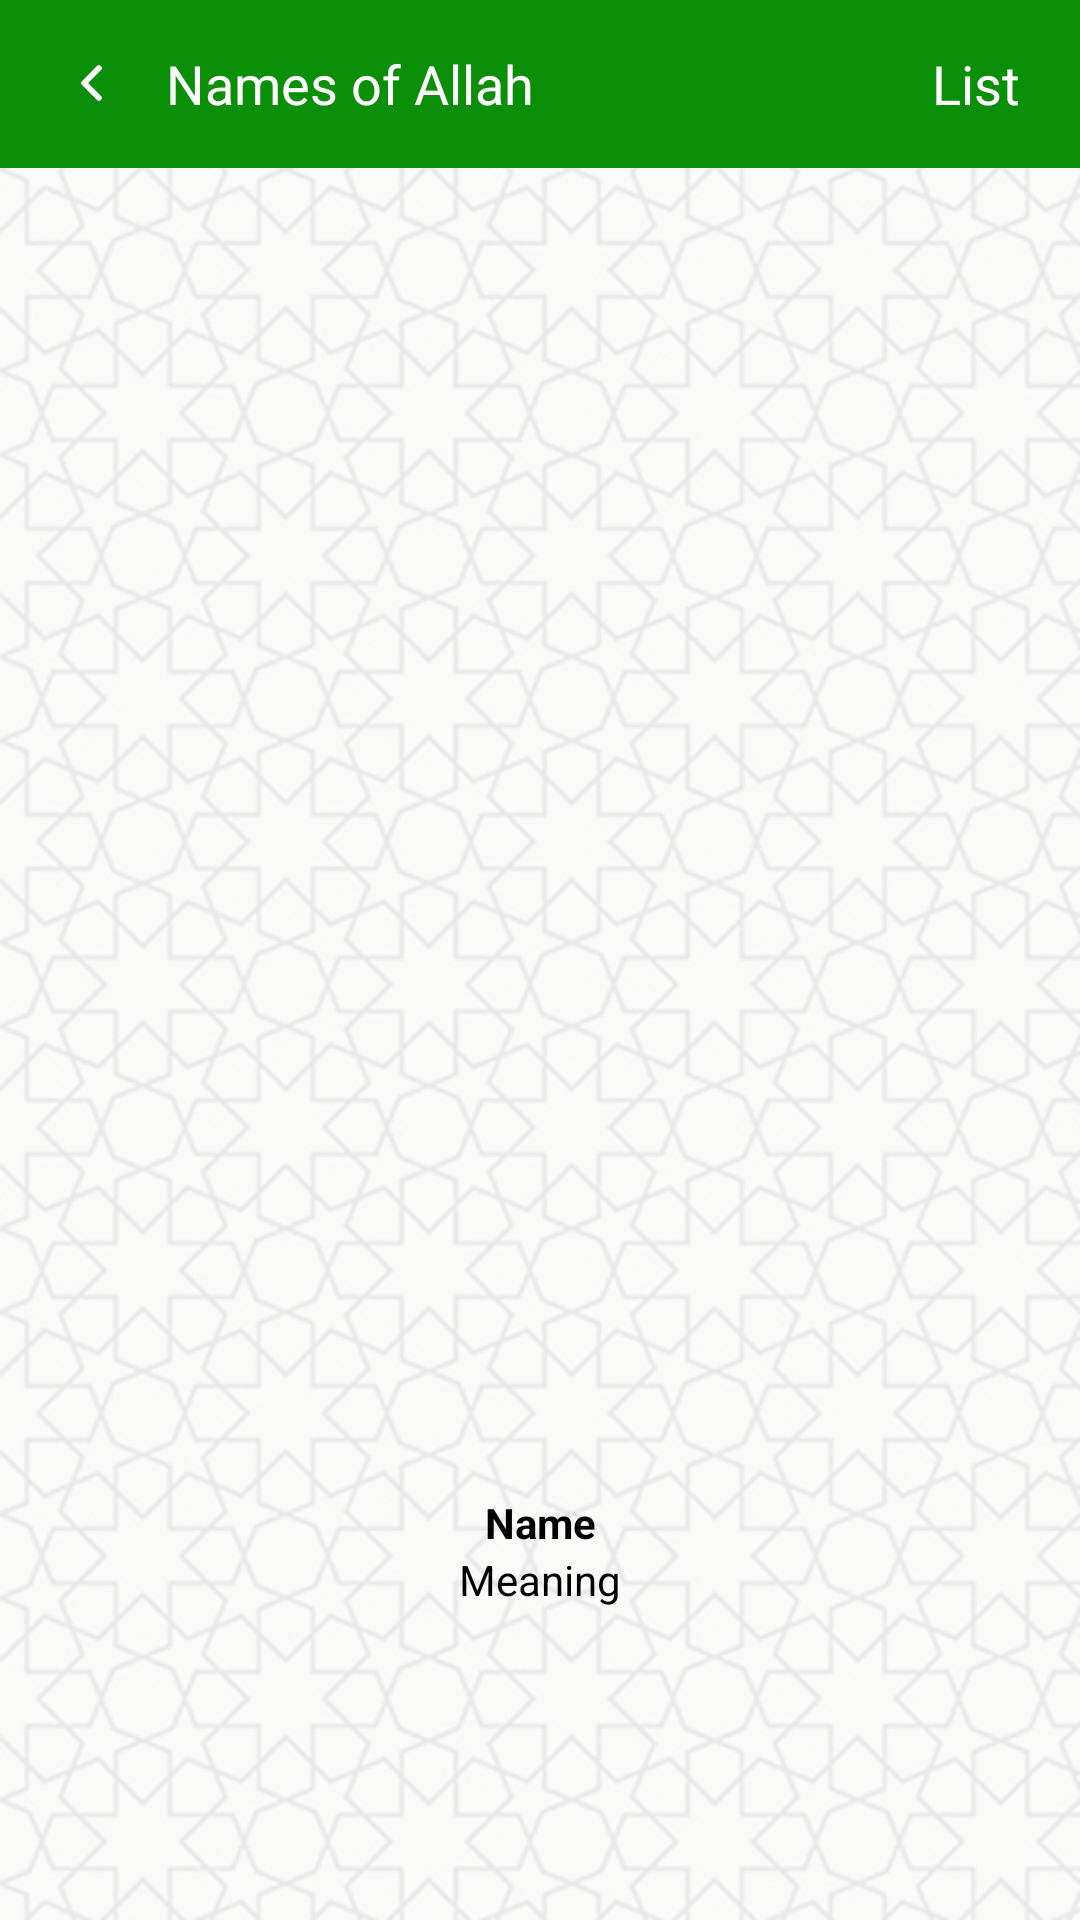

Where icons sit on this 1080x1920 app screen, as (x1, y1, x2, y2):
back: (81, 65, 102, 101)
